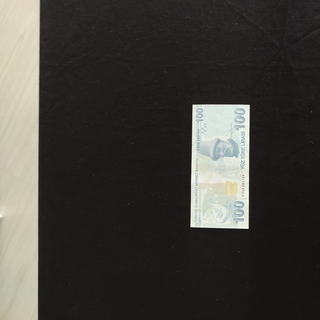100TLBack: (189, 103, 250, 229)
